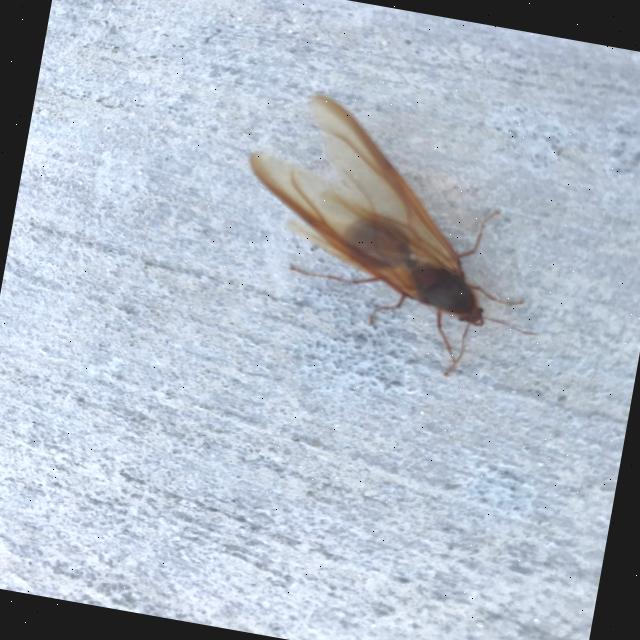Alive-Male-Alate: (216, 83, 573, 390)
